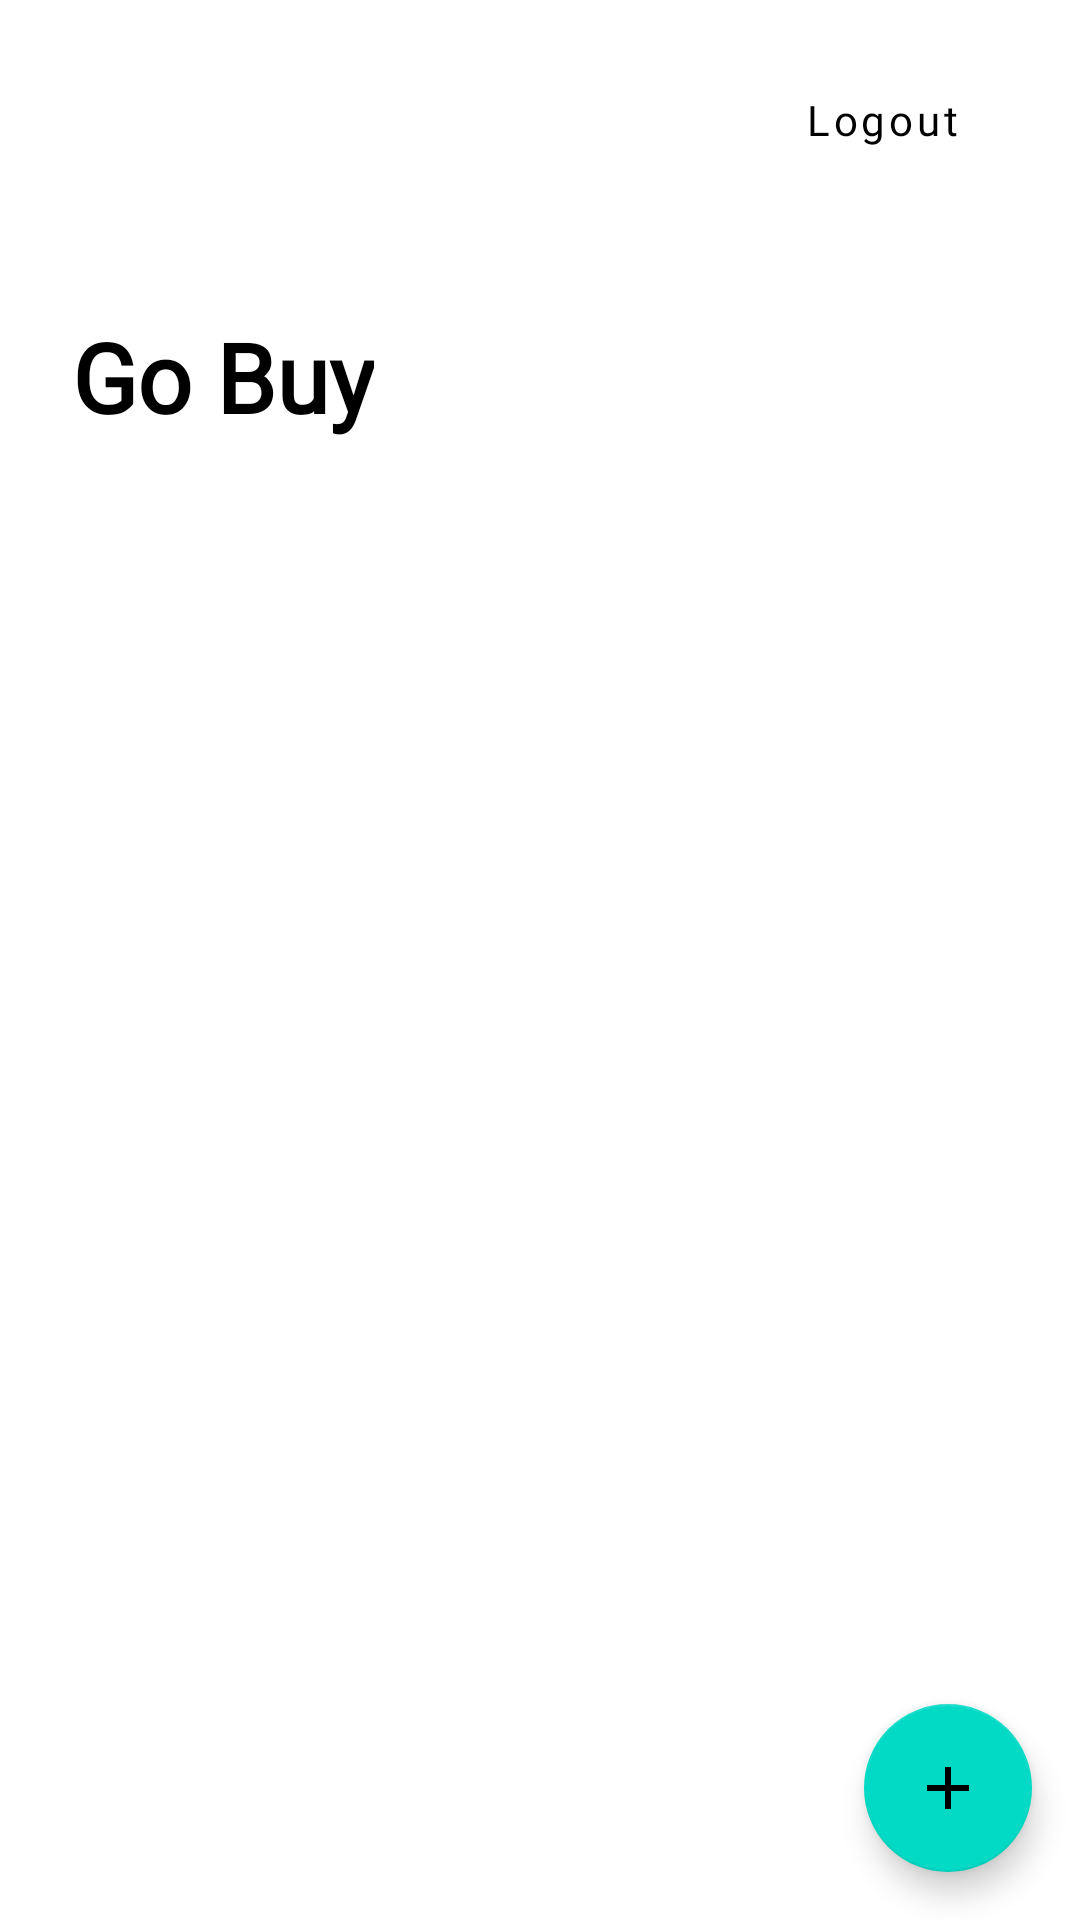

Icons on this 1080px×1920px Android screen, each with its box as [x1=x1, y1=y1, x2=x2, y2=y2]:
Add Products: [x1=864, y1=1704, x2=1032, y2=1872]
